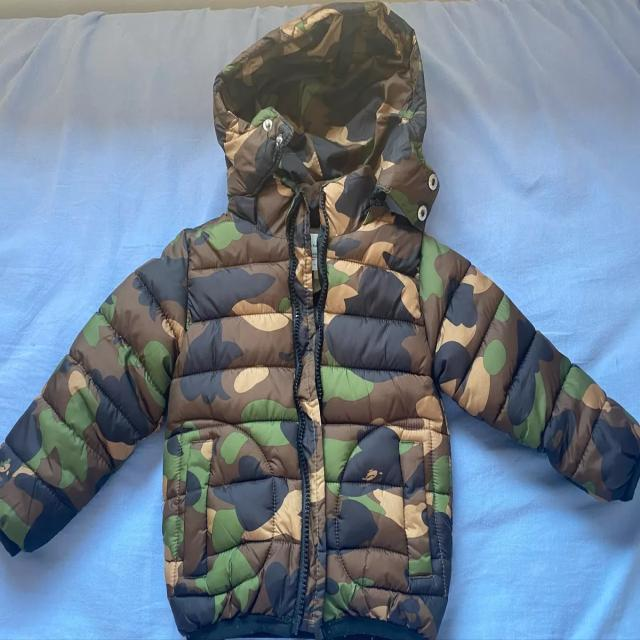coat: (0, 0, 638, 638)
